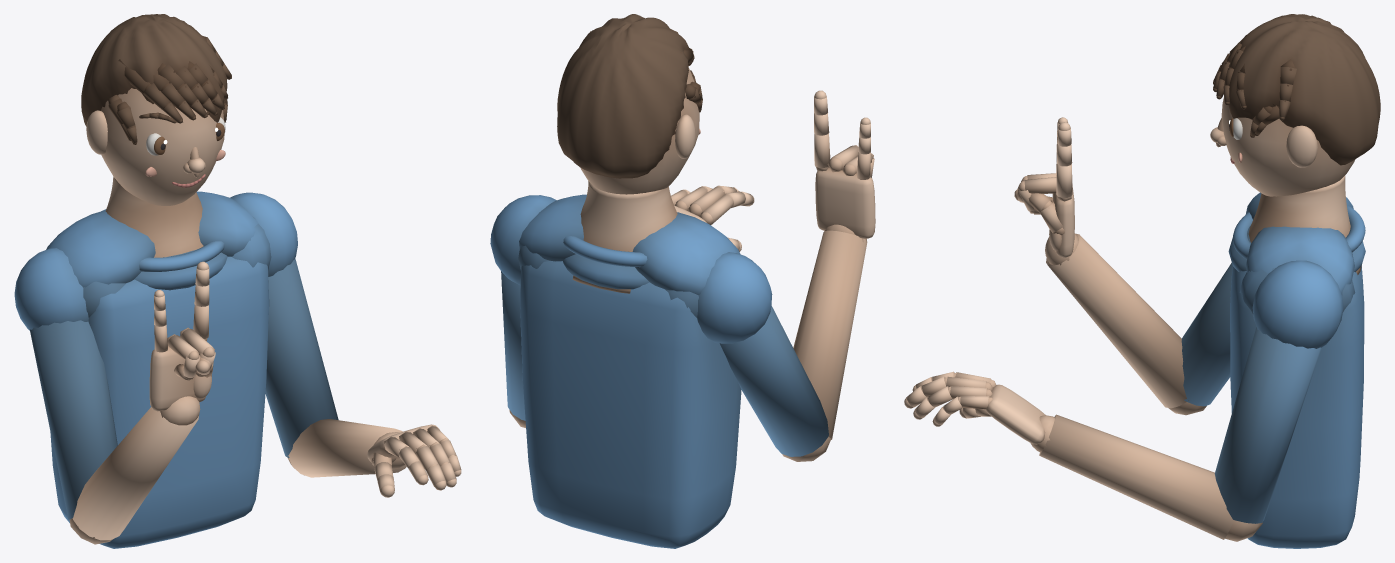
The picture shows the model from 3 angles, left to right: view 1: azimuth 30°, elevation 25°; view 2: azimuth 150°, elevation 25°; view 3: azimuth 270°, elevation 25°; orthographic projection.
Visible parts, largest first — view 1: LSC_Body; view 2: LSC_Body; view 3: LSC_Body.
Boxes of the visible parts, bbox=[...] form: LSC_Body: bbox=[14, 14, 461, 548]; LSC_Body: bbox=[490, 14, 875, 548]; LSC_Body: bbox=[904, 14, 1380, 548].
Bounding box in the file's own units: 0.4304 × 0.713 × 0.6104.
